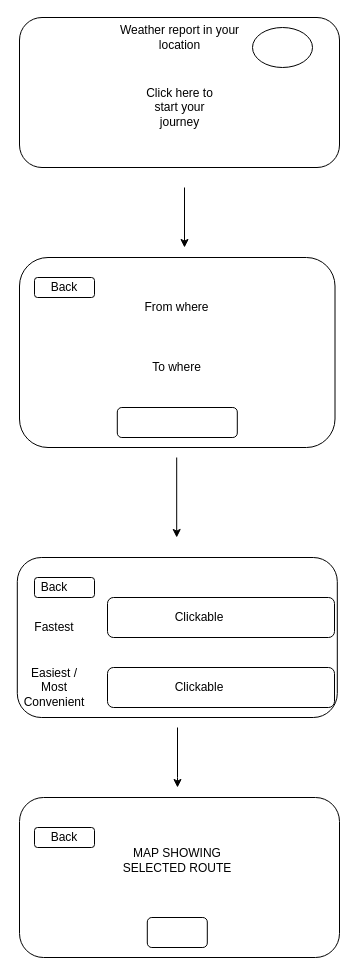
The diagram is 358 pixels wide and 975 high, and some of its shapes have lost their labels. Here are the shapes that lost their labels. From the top down, the box of each, then its label:
(252, 26, 312, 68): 20C Sunny
(116, 406, 237, 438): GO!
